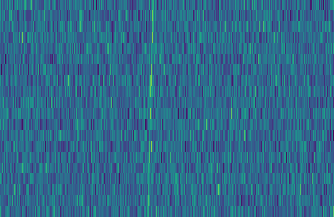signal: (143, 0, 157, 217)
